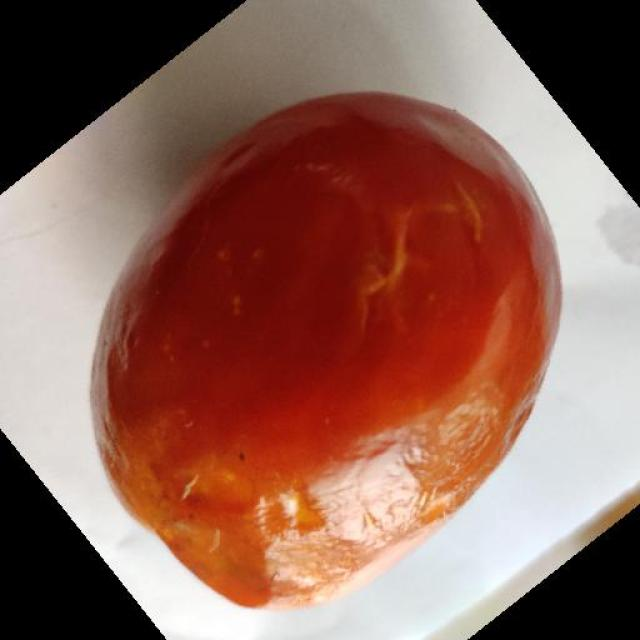Stale_tomato: (86, 105, 552, 546)
